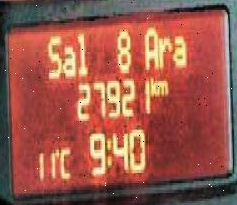0: (127, 125, 145, 171)
1: (140, 74, 149, 114), (34, 145, 44, 180), (46, 147, 55, 180)
2: (74, 79, 90, 121), (120, 76, 135, 116)
4: (110, 130, 127, 172)
7: (91, 78, 104, 118)
8: (115, 25, 131, 71)
9: (85, 127, 105, 176), (105, 76, 119, 116)
X: (44, 29, 61, 78), (141, 23, 157, 69), (75, 27, 87, 76), (61, 41, 75, 79), (171, 31, 186, 65), (157, 32, 171, 67), (58, 145, 71, 180), (156, 76, 167, 96), (149, 71, 156, 96), (105, 136, 110, 167)
